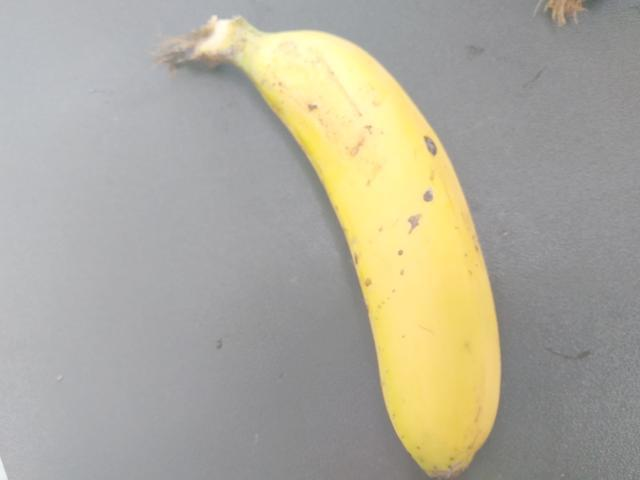ripe: (256, 24, 540, 479)
